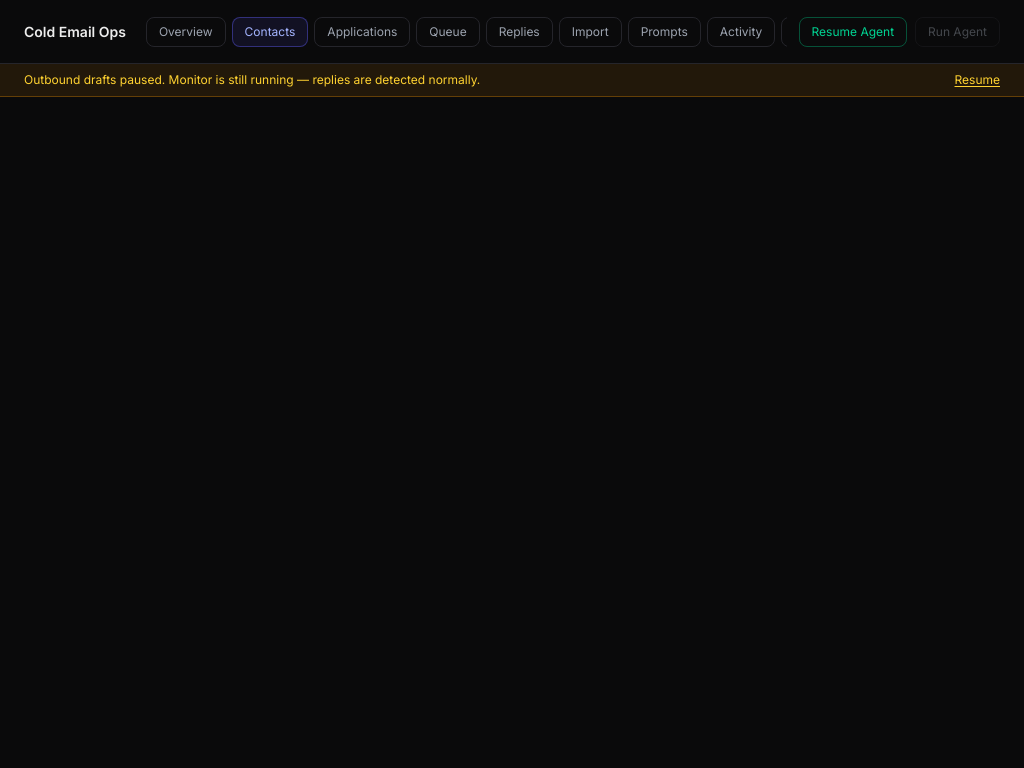
Test case: Nav — paused state (agent) › opens Resume confirmation modal on Resume Agent click
Click the button "Resume Agent" at (853, 32), box [798,16,907,46]
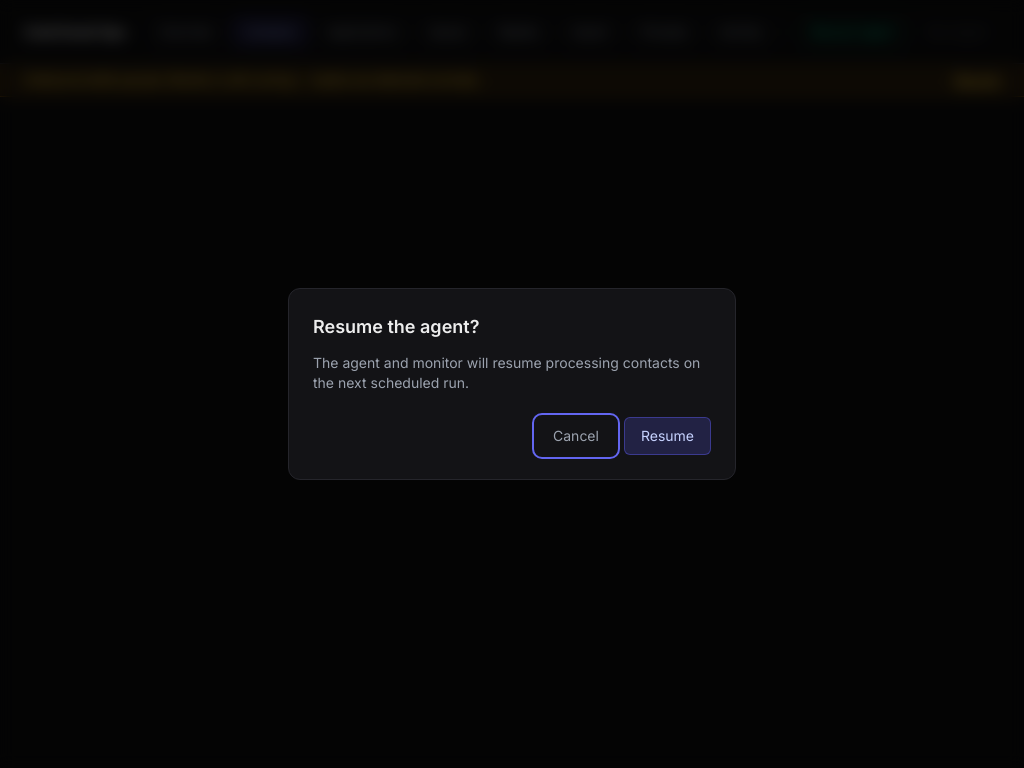
Result: the dialog is shown at [288,288,736,480]
Result: the heading "Resume the agent?" is shown at [313,316,479,337]
